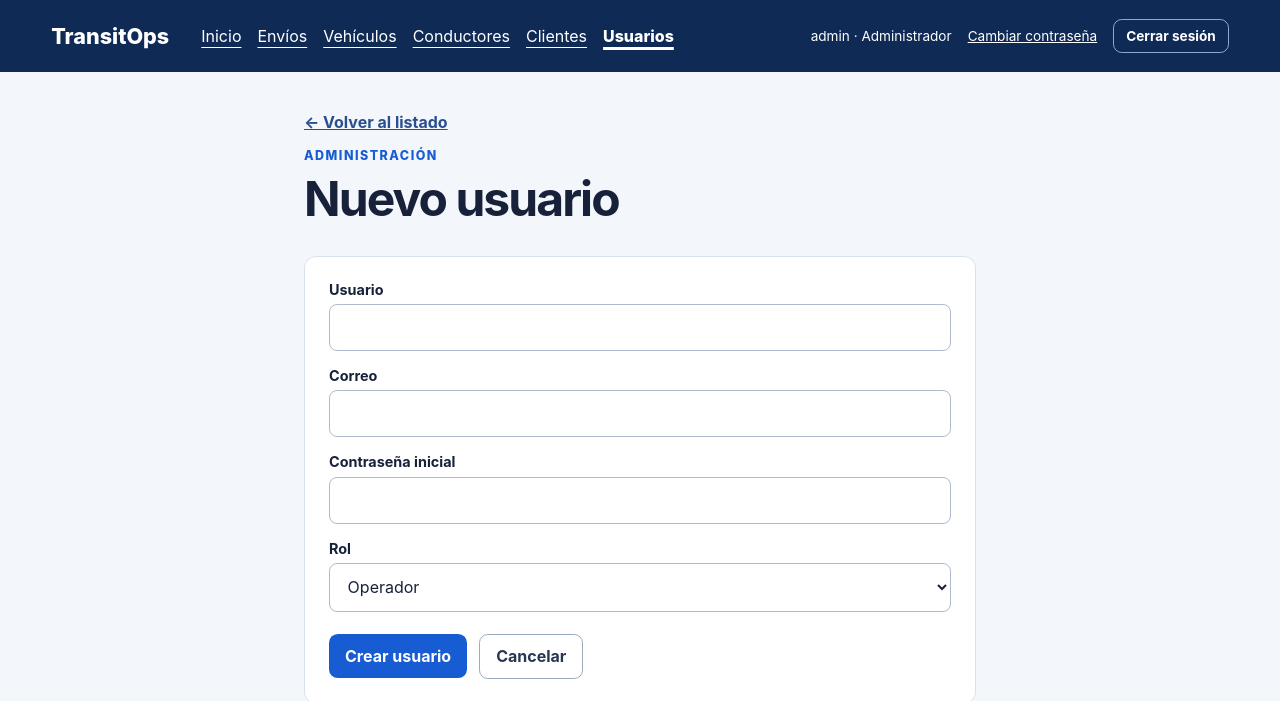
Test: administración de usuarios › sends a user creation contract and shows backend conflicts
Type "operator" into the field labelled "Usuario". click: [640, 327]
box: [329,304,951,351]
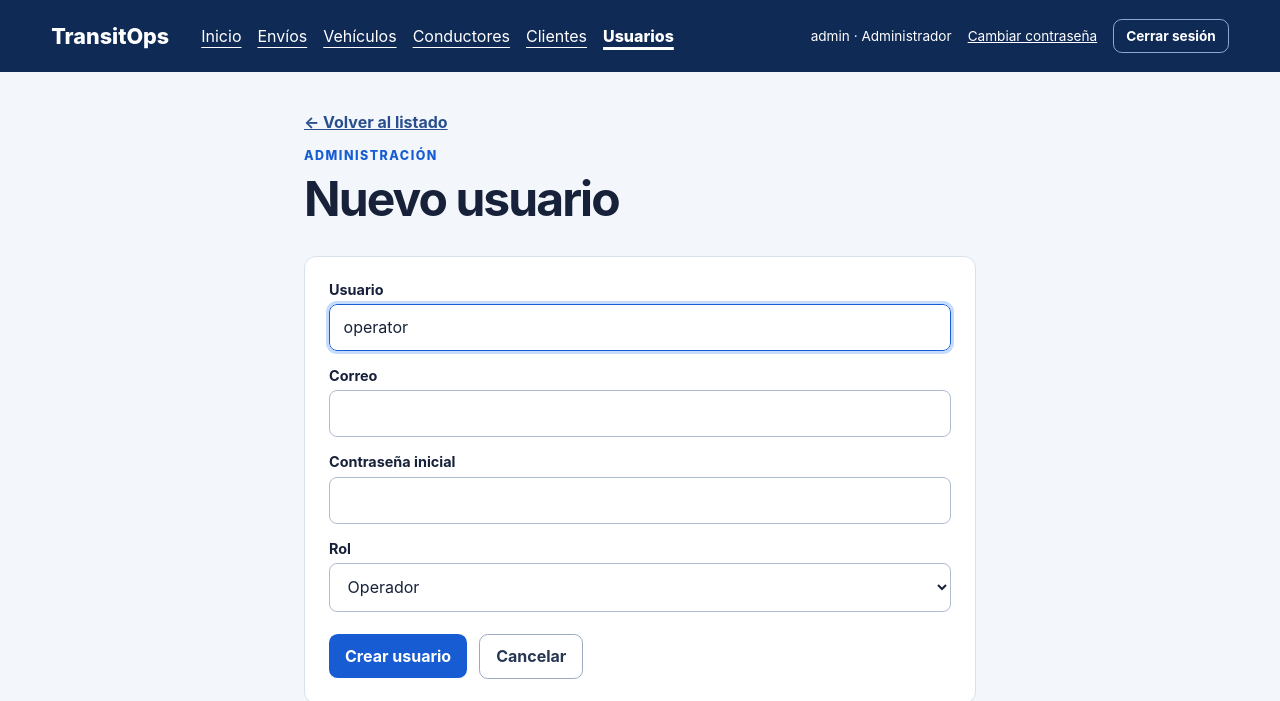
Type "operator@test.dev" into the field labelled "Correo". click: [640, 414]
box: [329,390,951,437]
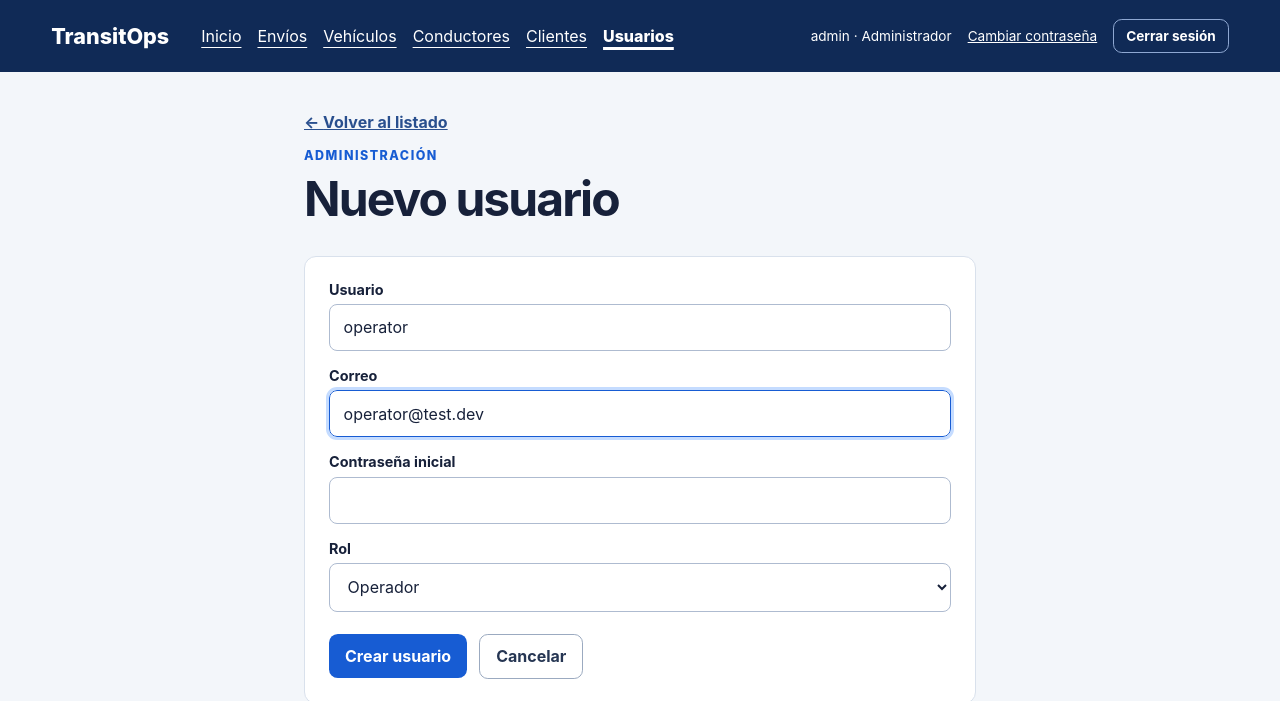
Type "OperatorPass!123" into the password field labelled "Contraseña inicial". click: [640, 500]
box: [329,477,951,524]
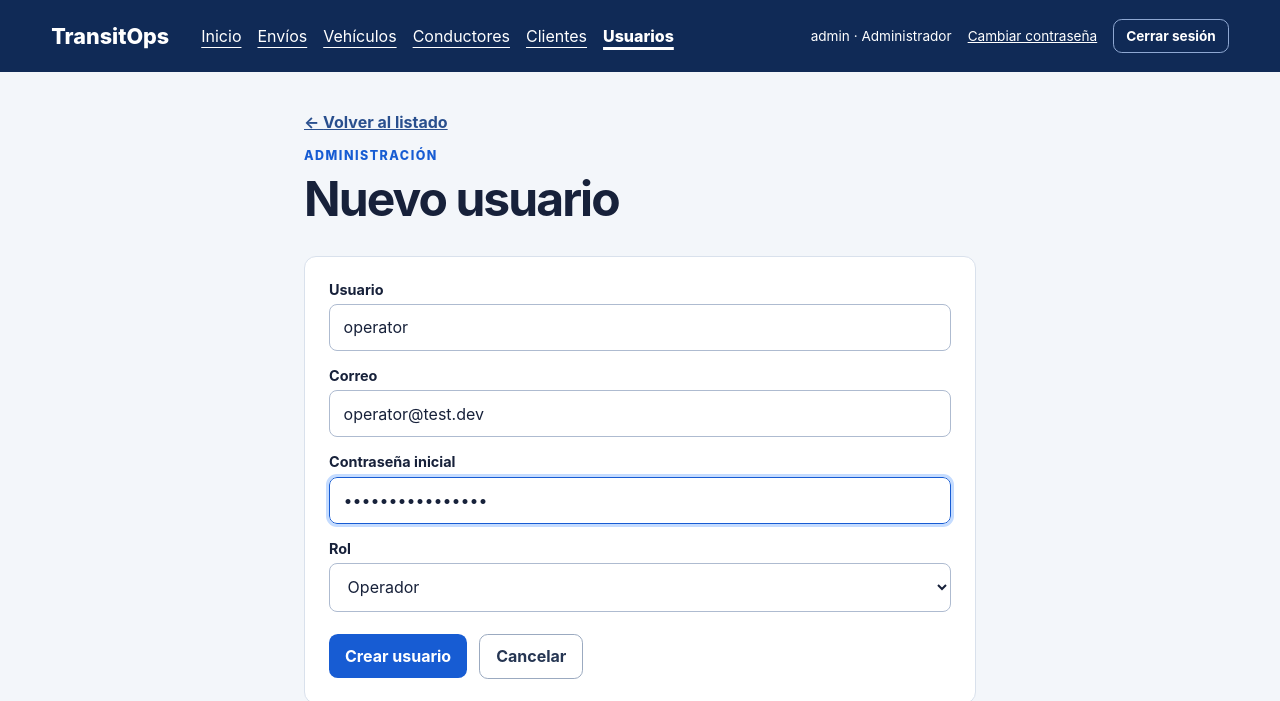
Click the button "Crear usuario". click: [398, 656]
box: [329,634,467,678]
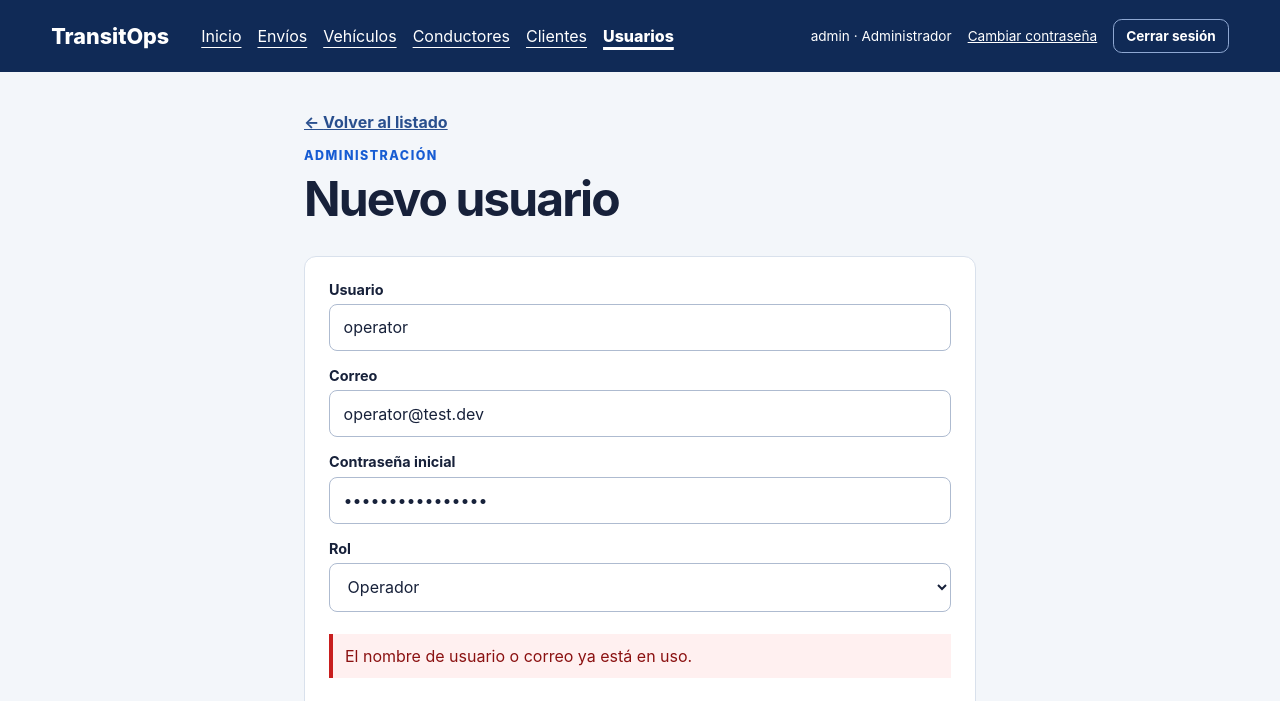
Expected: the message reads "El nombre de usuario o correo ya está en uso.", [345,646,692,666]
